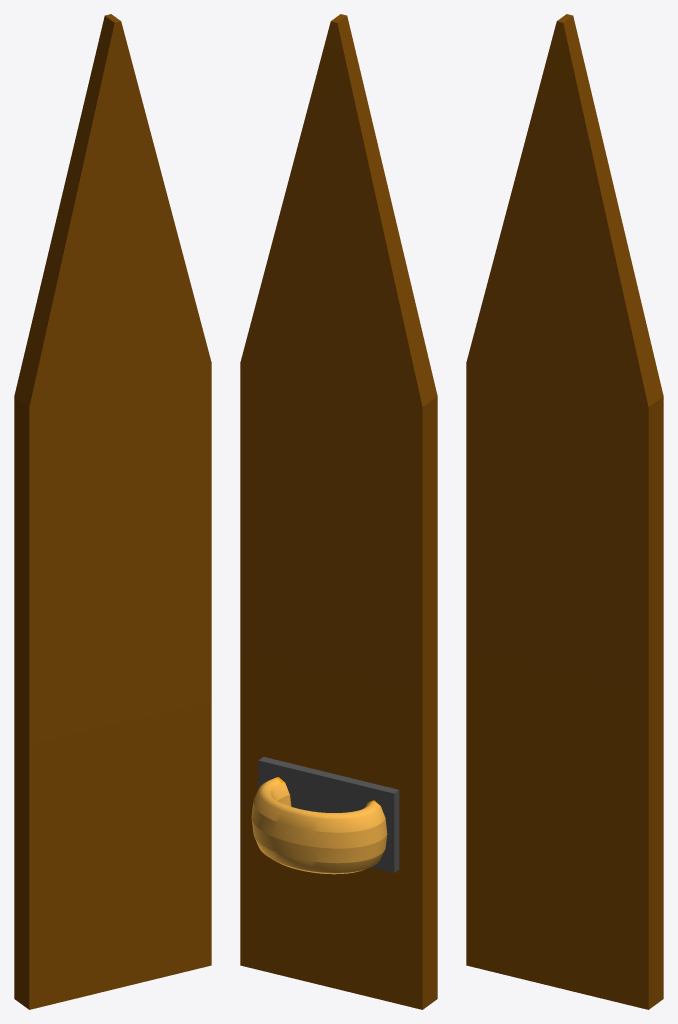
The model's file is wing1.fbx.
The picture shows the model from 3 angles, left to right: view 1: azimuth 30°, elevation 25°; view 2: azimuth 150°, elevation 25°; view 3: azimuth 330°, elevation 25°; orthographic projection.
Parts seen in each view (by area): view 1: Cube; view 2: Cube; view 3: Cube.
Boxes of the visible parts, x1=… form: Cube: x1=14, y1=14, x2=211, y2=1009; Cube: x1=240, y1=14, x2=437, y2=1009; Cube: x1=466, y1=14, x2=663, y2=1009.
Bounding box in the file's own units: 32.26 × 163 × 16.31.
